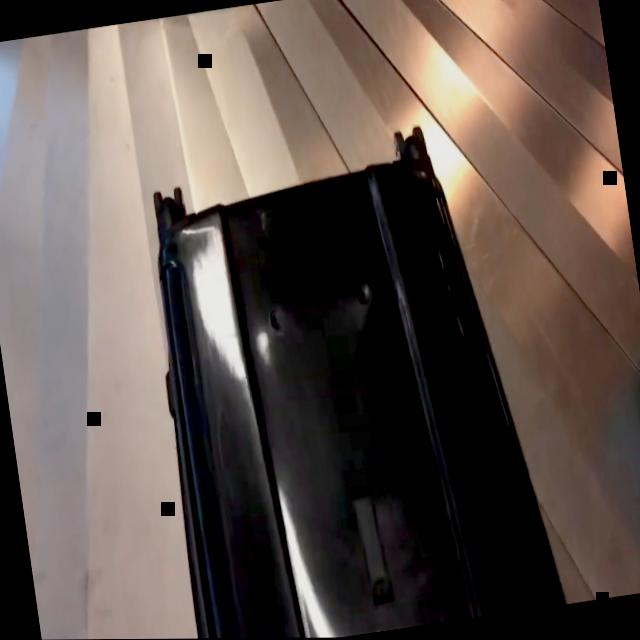luggage: (130, 111, 569, 639)
